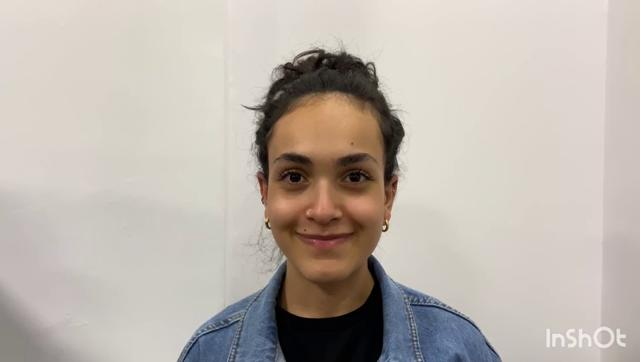senang: (264, 96, 388, 282)
